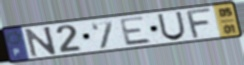2: (55, 24, 84, 54)
7: (90, 19, 115, 50)
E: (118, 15, 154, 47)
F: (186, 6, 215, 40)
N: (23, 25, 59, 58)
U: (156, 11, 187, 42)
